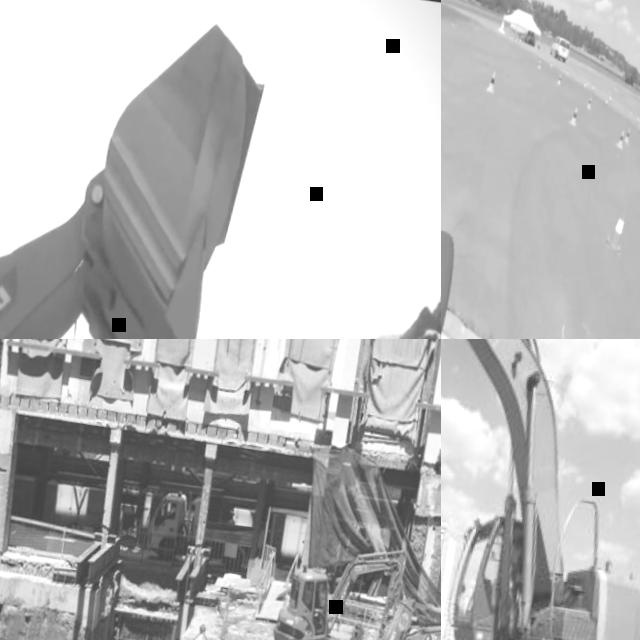Safety Cone: (601, 204, 630, 260), (218, 585, 234, 639), (484, 69, 498, 97), (567, 106, 580, 128), (615, 131, 625, 152), (623, 128, 632, 145), (585, 97, 593, 112), (556, 74, 563, 87), (537, 58, 544, 70)
machinery: (0, 0, 280, 339), (441, 339, 640, 640), (261, 527, 409, 640), (143, 489, 268, 576)
vehicle: (441, 77, 507, 339), (549, 35, 570, 64)
